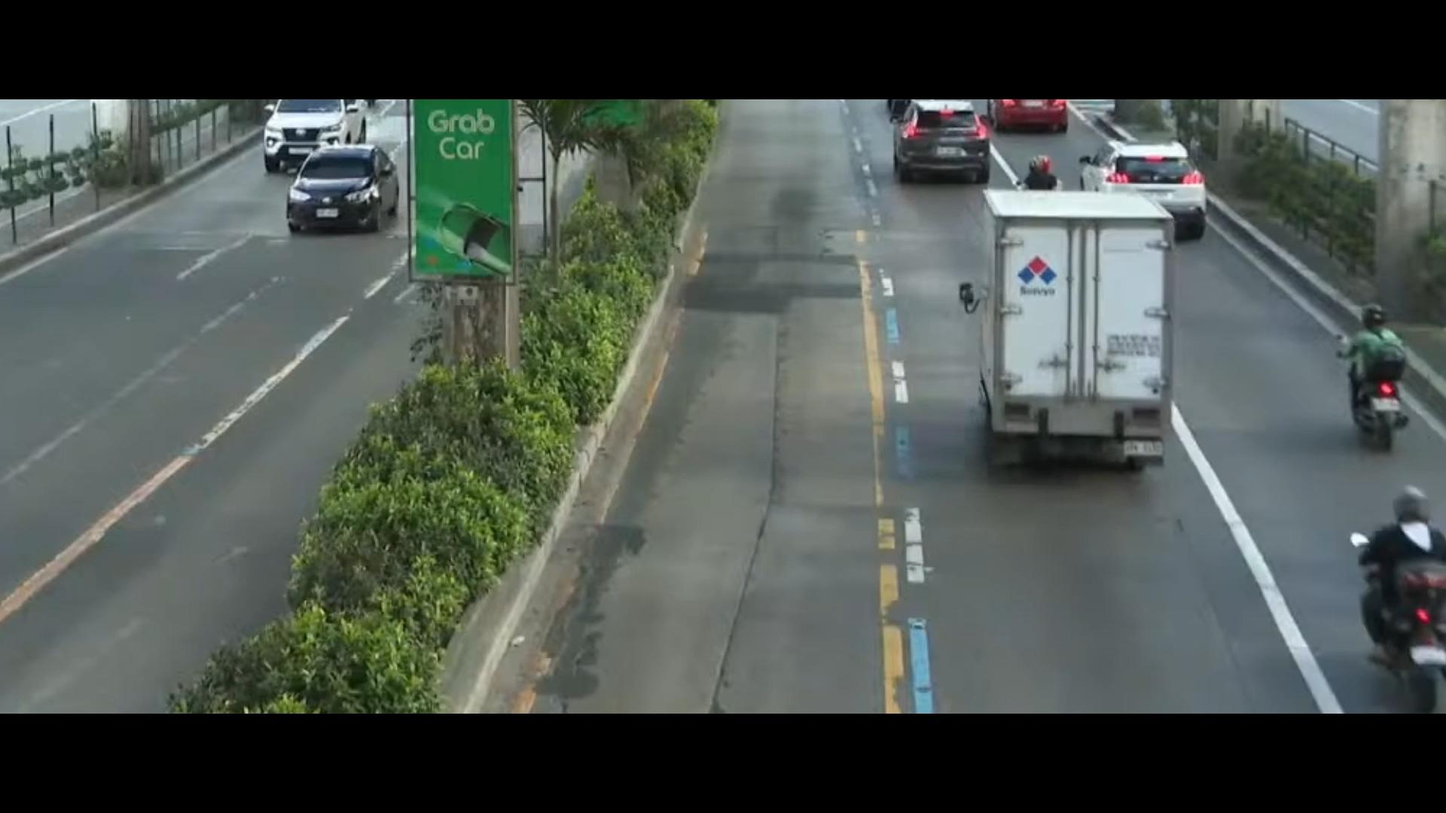Motorcycle: (1332, 480, 1446, 709), (1333, 285, 1434, 457)
SUV: (1071, 134, 1230, 232), (878, 91, 1000, 189)
Sedan: (268, 136, 420, 247)
Truck: (928, 172, 1219, 493)
